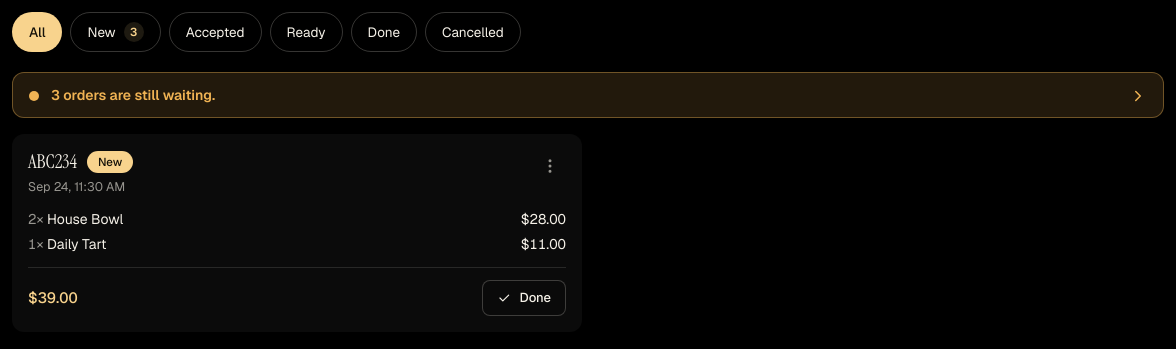
Scenario: OrdersPage › shows the open count on the New chip and hides the waiting note there
This screenshot has width=1176, height=349.
Step 1. Click the tab "New 3" → (116, 32), box 70,12 -> 161,52
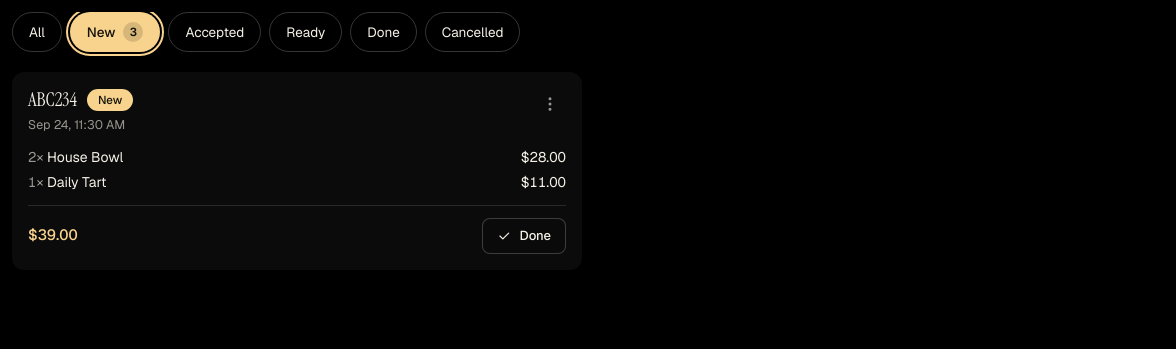
expect the text "ABC234" is shown: met, box 28,88 -> 77,112
expect the button "still waiting" is gone: met
